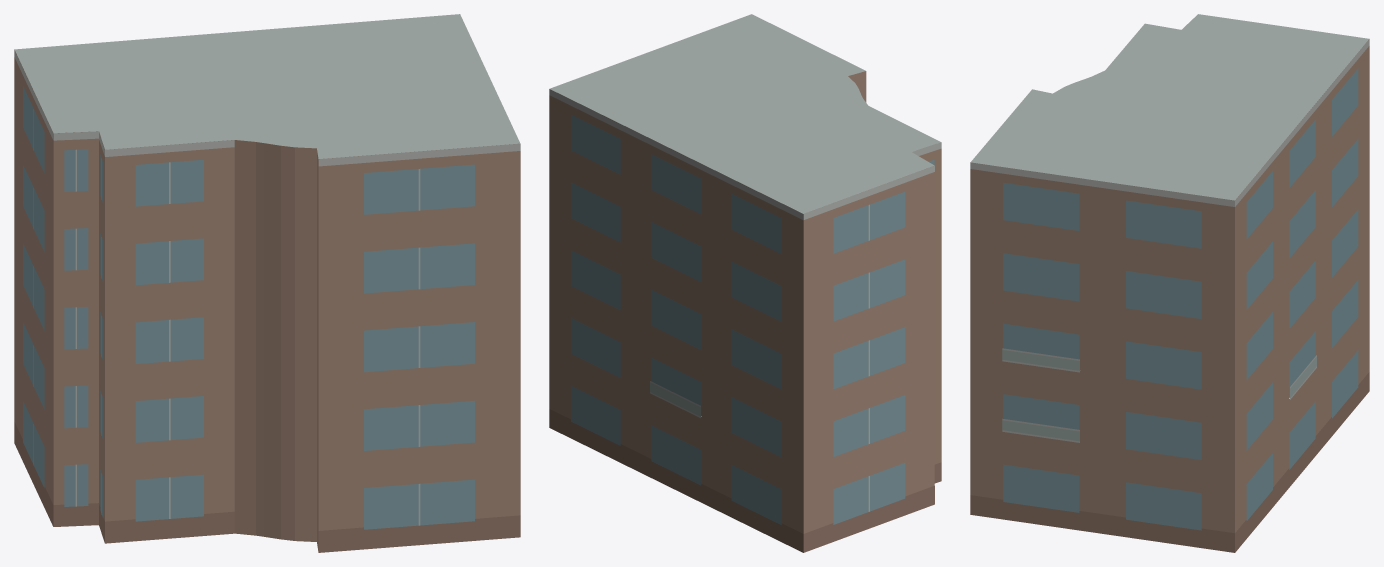
The model's file is survey-upis-32952561.glb.
3 views of the same model, side by side, from view 1: azimuth 30°, elevation 25°; view 2: azimuth 150°, elevation 25°; view 3: azimuth 270°, elevation 25° (orthographic). The views are drawn at different scales.
Parts seen in each view (by area): view 1: survey-upis-32952561.tmp; view 2: survey-upis-32952561.tmp; view 3: survey-upis-32952561.tmp.
Part boxes in pixels (bbox=[...]): survey-upis-32952561.tmp: bbox=[14, 14, 520, 552]; survey-upis-32952561.tmp: bbox=[549, 14, 941, 552]; survey-upis-32952561.tmp: bbox=[970, 14, 1369, 552].
Size of the model in its own units: 14.88 by 13.1 by 13.46.
